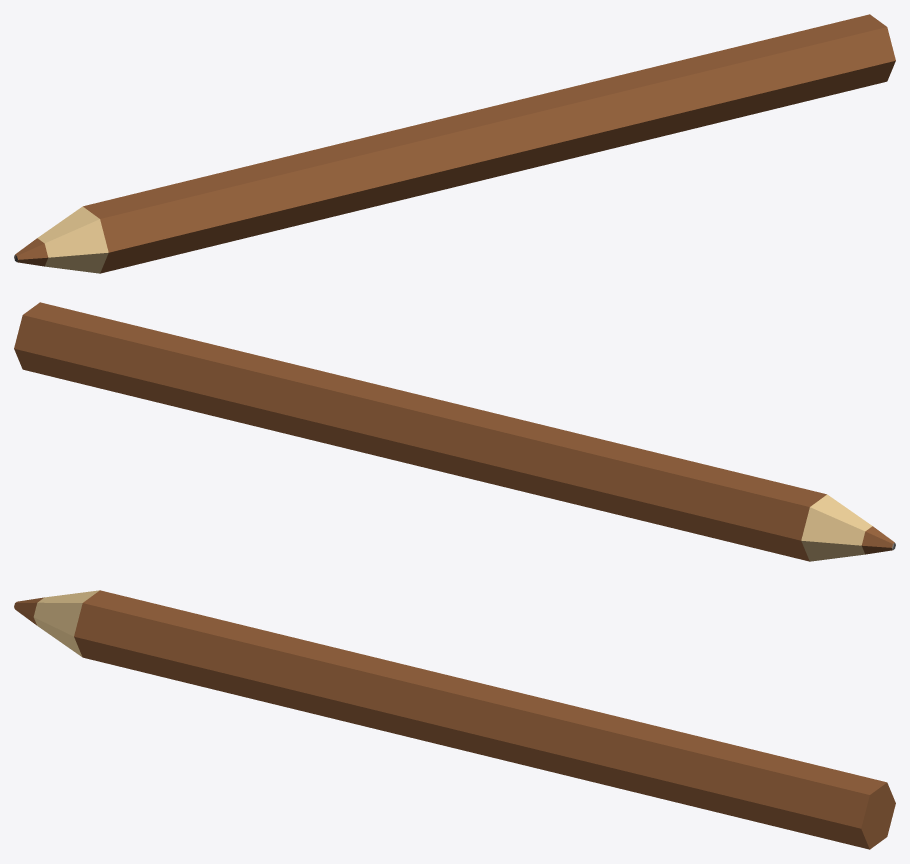
File: matita2.fbx
3 views of the same model, one above another, from view 1: azimuth 30°, elevation 25°; view 2: azimuth 150°, elevation 25°; view 3: azimuth 330°, elevation 25° (orthographic).
Parts seen in each view (by area): view 1: matita2; view 2: matita2; view 3: matita2.
Part boxes in pixels (left/top/right/bottom): matita2: left=14, top=14, right=895, bottom=273; matita2: left=14, top=302, right=895, bottom=561; matita2: left=14, top=590, right=895, bottom=849.
Size of the model in its own units: 0.11 by 0.00665 by 0.00768.
